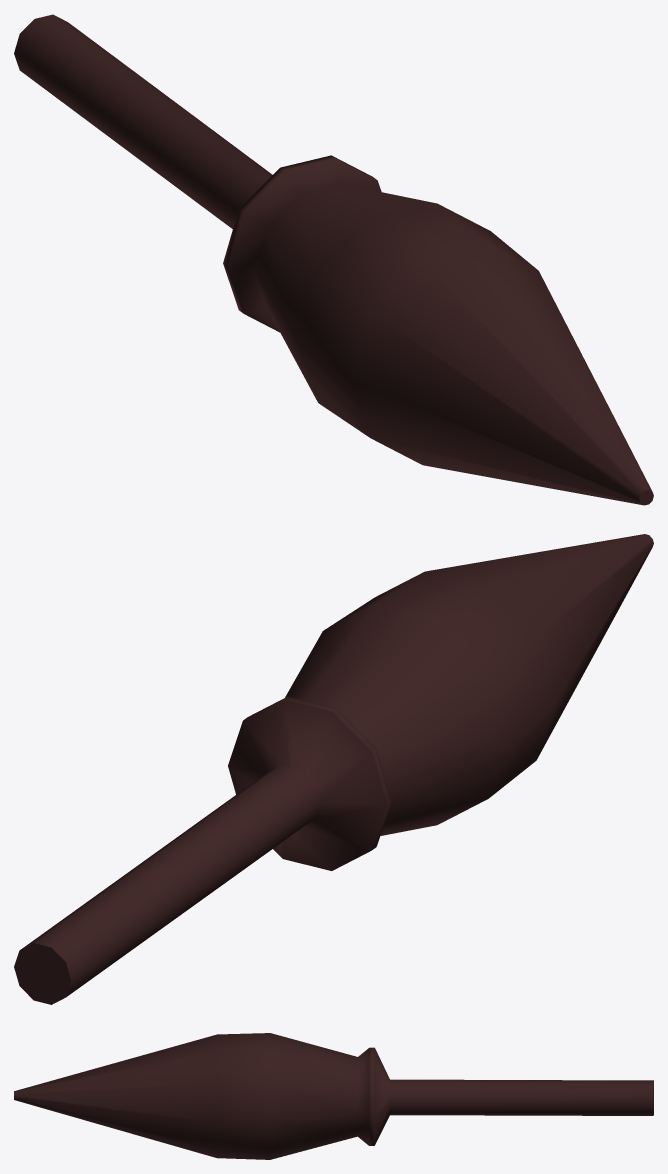
File: Rocket_mesh.fbx
3 renders of one model, top to bottom at view 1: azimuth 30°, elevation 25°; view 2: azimuth 150°, elevation 25°; view 3: azimuth 270°, elevation 25°, orthographic. The views are drawn at different scales.
Visible parts, largest first — view 1: Soldier_Pose_RPG; view 2: Soldier_Pose_RPG; view 3: Soldier_Pose_RPG.
Part boxes in pixels (x1,y1,x2,y2): Soldier_Pose_RPG: [14, 14, 653, 505]; Soldier_Pose_RPG: [14, 534, 653, 1004]; Soldier_Pose_RPG: [14, 1033, 653, 1159].
Bounding box in the file's own units: 4.82 × 4.58 × 24.09.
